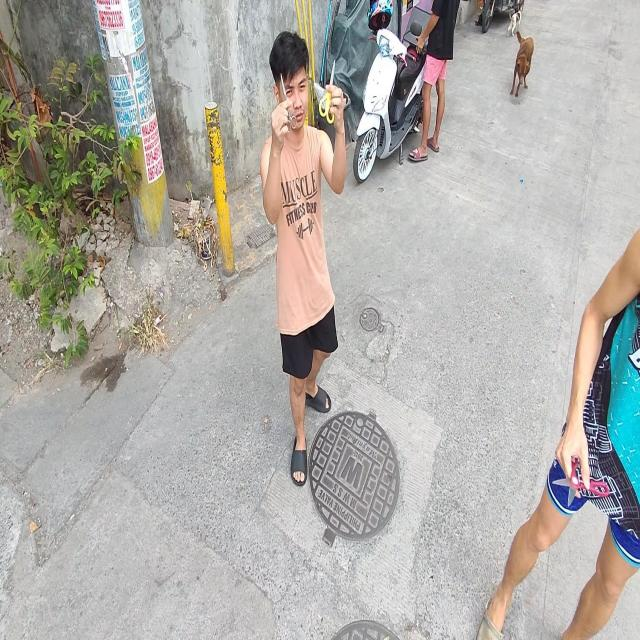scissor: (552, 452, 608, 509), (318, 59, 338, 124), (280, 74, 298, 133)
